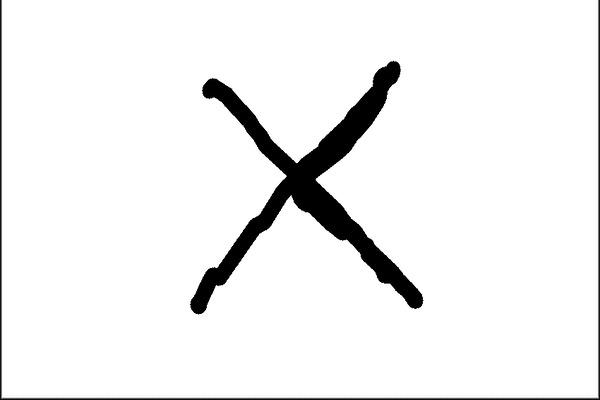X: (163, 45, 435, 323)
